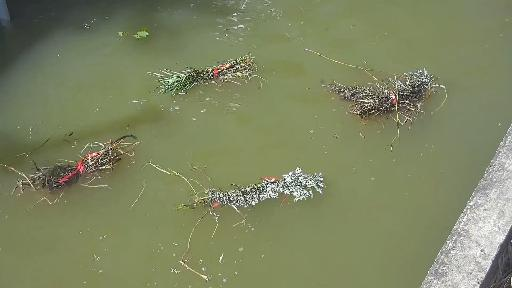leaf: (104, 23, 172, 46)
twig: (302, 41, 451, 163), (136, 157, 346, 225), (11, 118, 144, 200), (153, 60, 271, 111)
